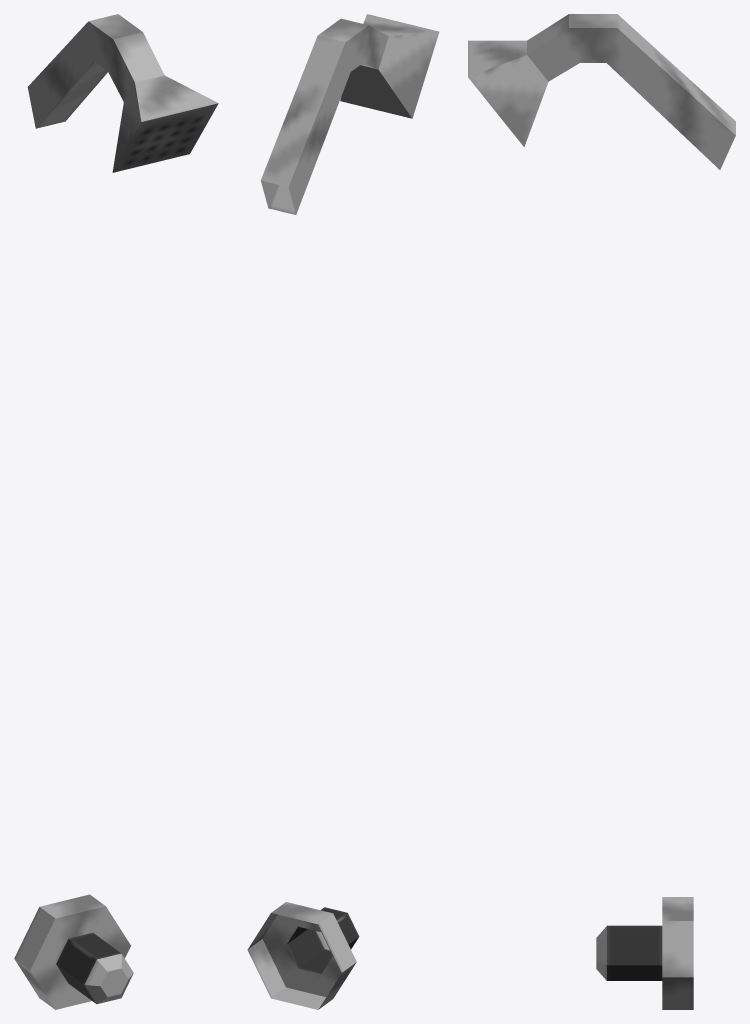
Rendered from obj_shower.fbx.
The picture shows the model from 3 angles, left to right: view 1: azimuth 30°, elevation 25°; view 2: azimuth 150°, elevation 25°; view 3: azimuth 270°, elevation 25°; orthographic projection. The views are drawn at different scales.
Visible parts, largest first — view 1: obj_shower; view 2: obj_shower; view 3: obj_shower.
Boxes of the visible parts, x1,y1,x2,y2 form: obj_shower: (14,14,218,1009); obj_shower: (247,14,439,1009); obj_shower: (468,14,735,1009).
Bounding box in the file's own units: 12.43 × 118 × 29.35.
